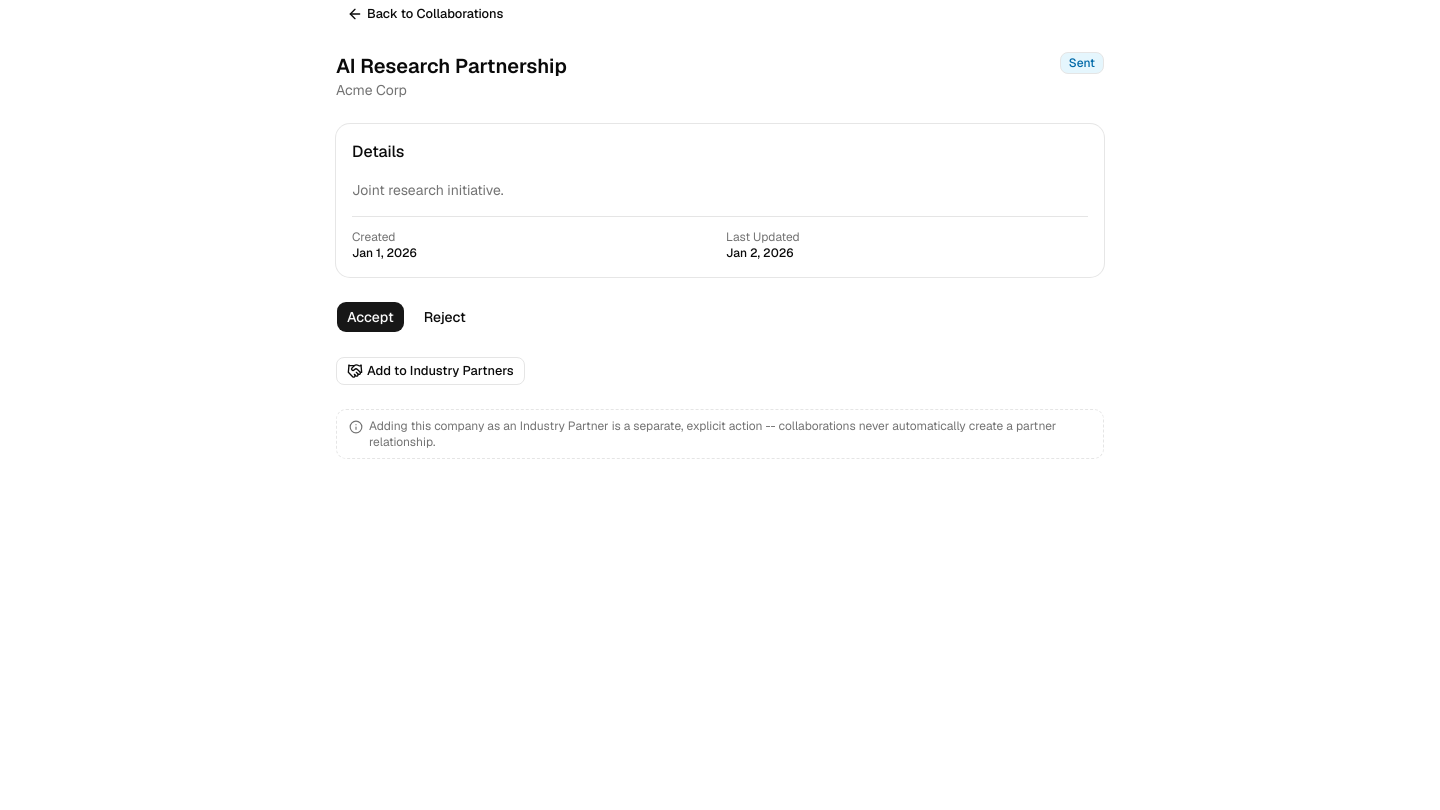
Test case: InstitutionCollaborationDetail › opens the Add to Industry Partners form pre-filled with this company
The width and height of the screenshot is (1440, 810).
Expected: the heading "AI Research Partnership" is shown, [336,52,567,80]
Click the button "Add to Industry Partners" at {"x": 430, "y": 371}, box [336,357,525,385]
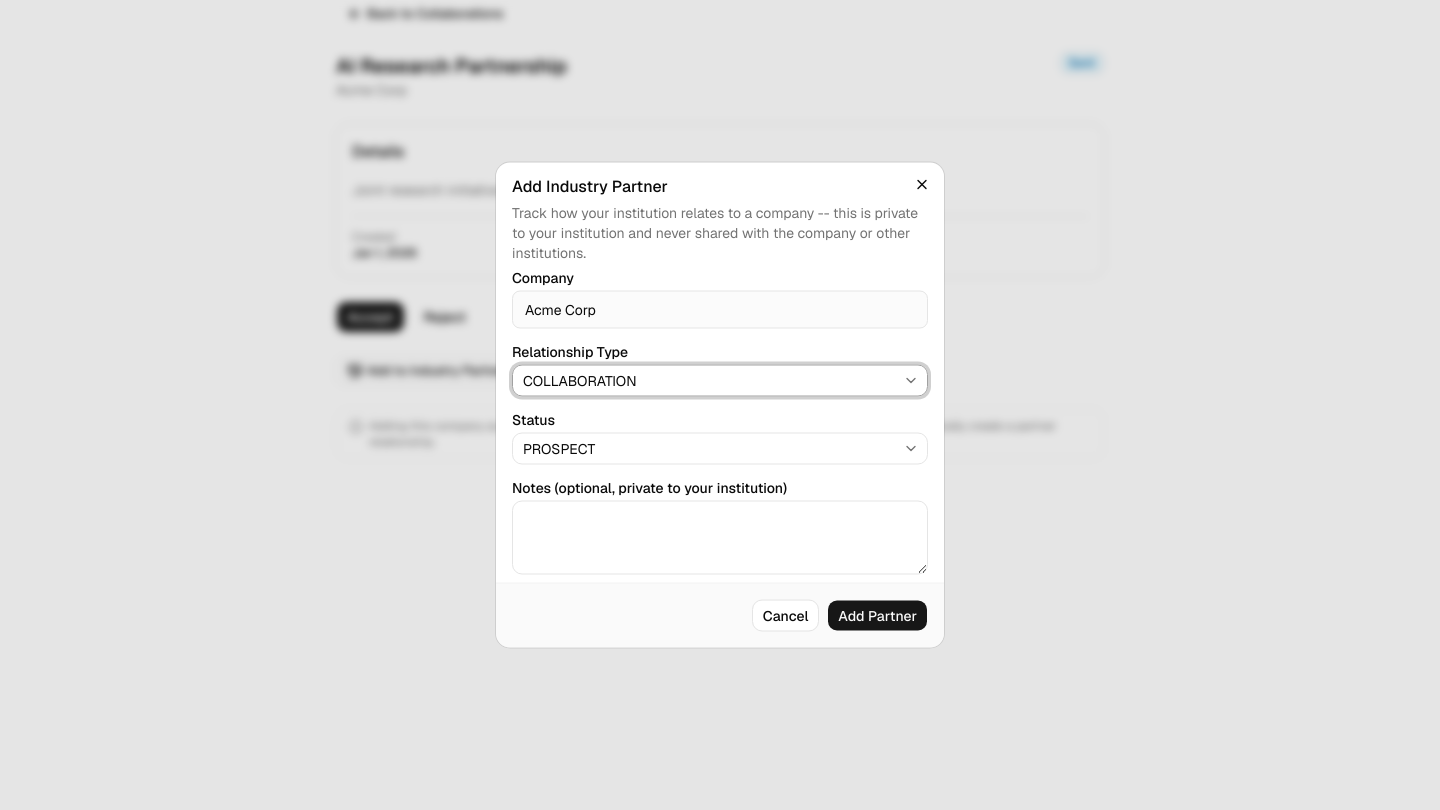
Expected: the text "Acme Corp" below "AI Research Partnership" is shown, [336,81,407,99]
Expected: the heading "Add Industry Partner" is shown, [512,176,668,196]
